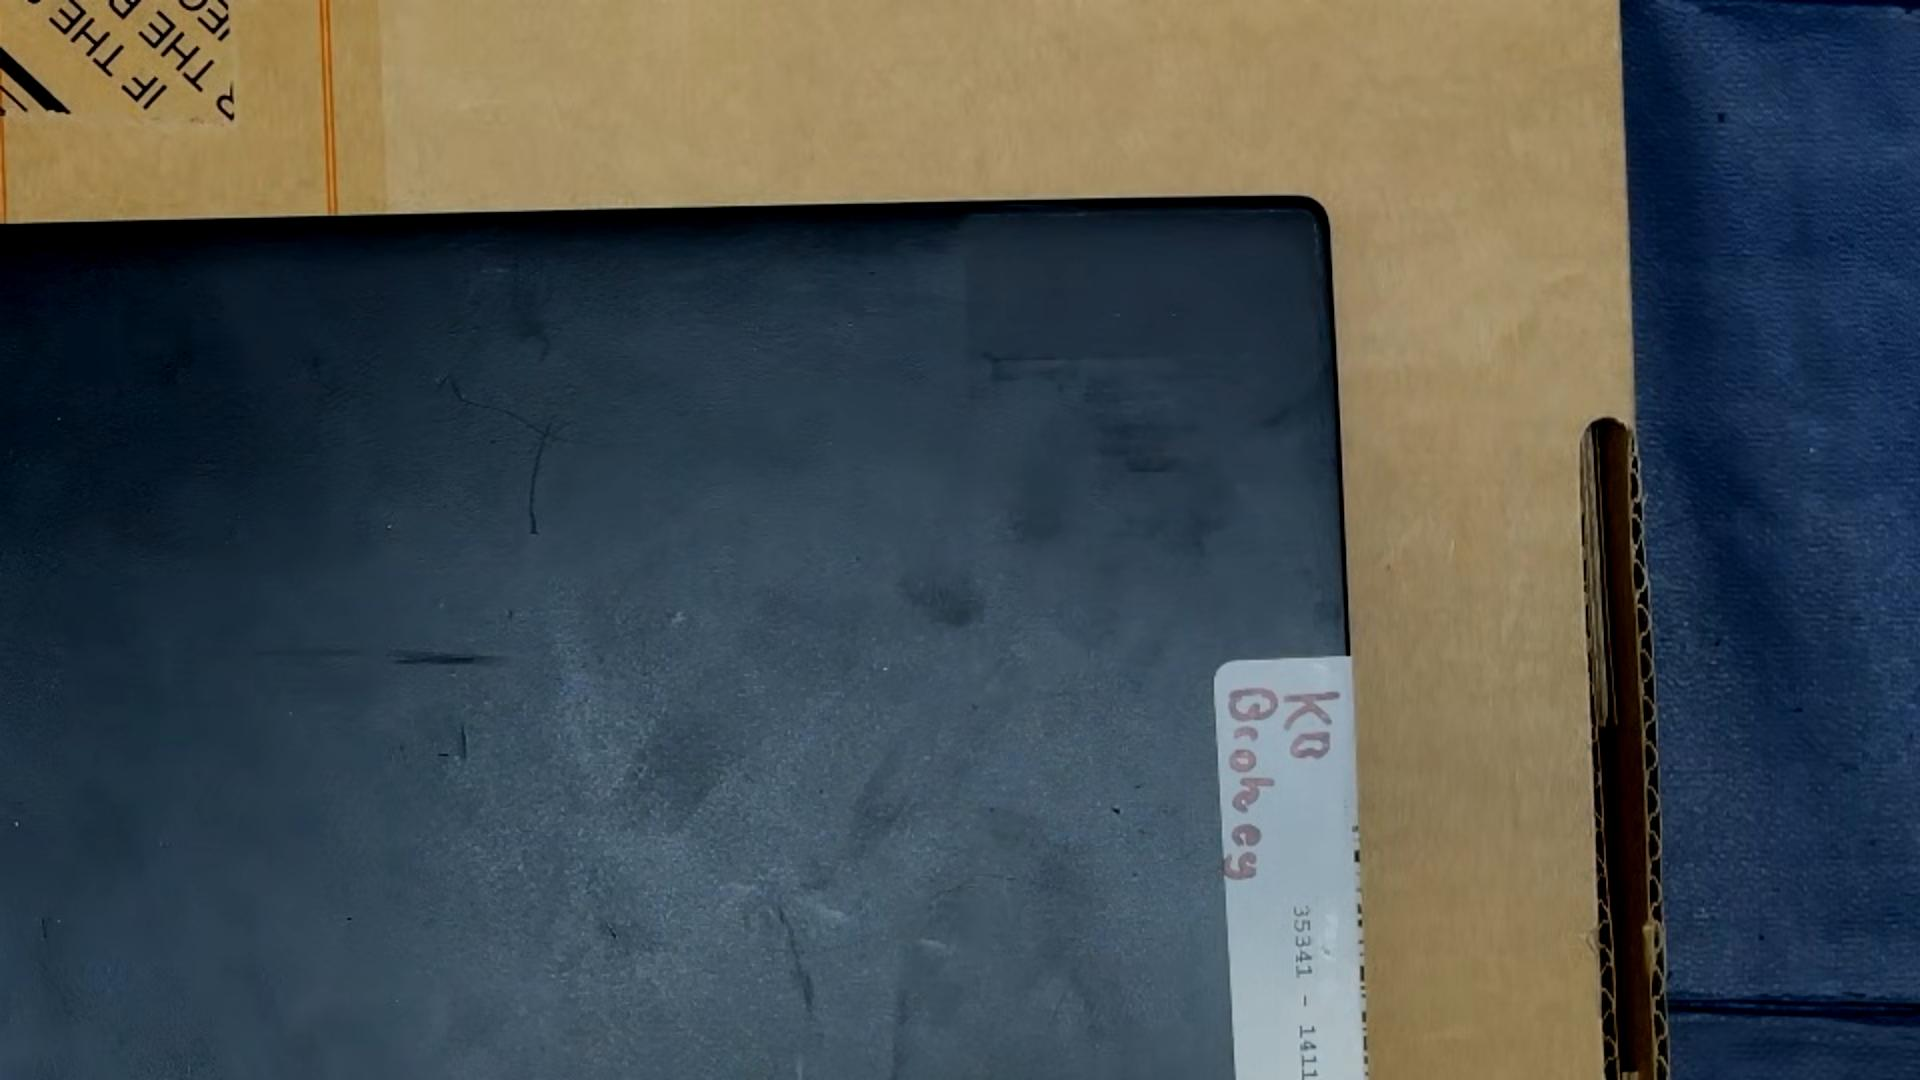scratches: (447, 376, 576, 444), (526, 419, 554, 537), (392, 649, 502, 667), (460, 723, 469, 764), (603, 920, 620, 940), (436, 752, 450, 757)
